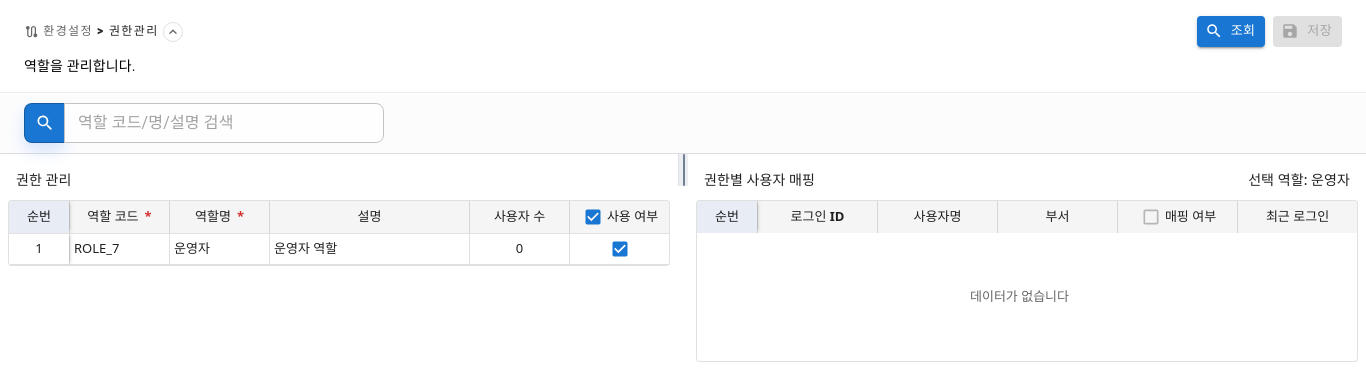
Scenario: RoleManagementPage notifications › refreshes the role list when the read action is clicked
This screenshot has width=1366, height=379.
expect the cell "운영자" is shown: met, box [169,233,269,265]
Click the button "조회": (1231, 31) [1197,16,1265,47]
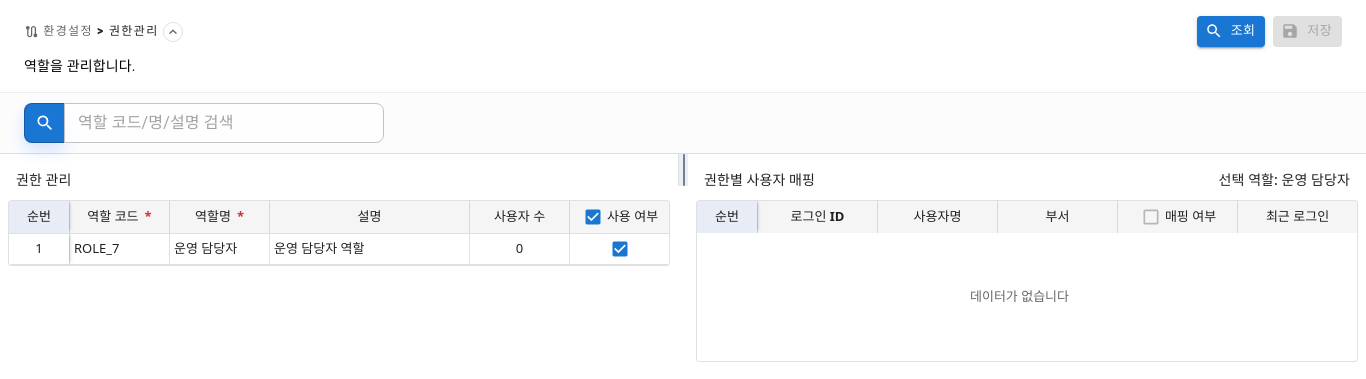
expect the cell "운영 담당자" is shown: met, box [169,233,269,265]
